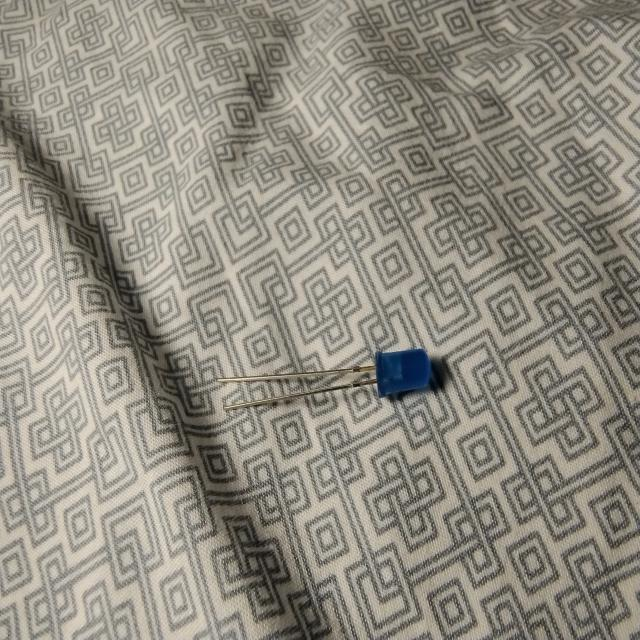blue_led: (375, 347, 432, 399)
